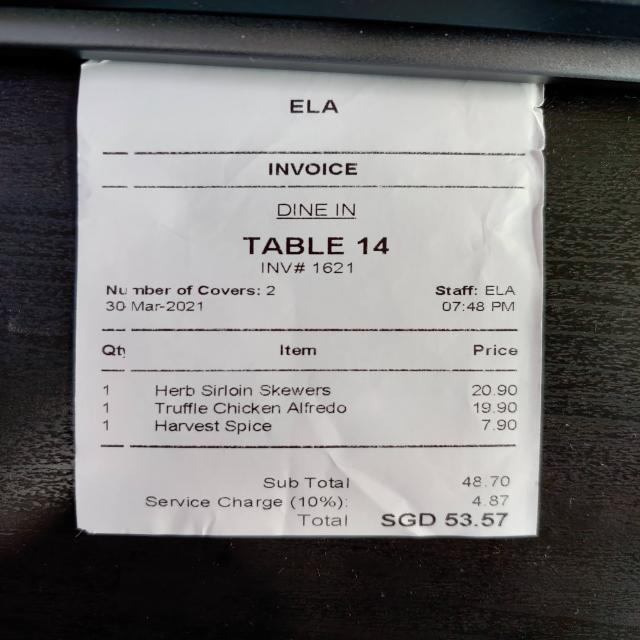bill_region: (94, 374, 527, 534)
